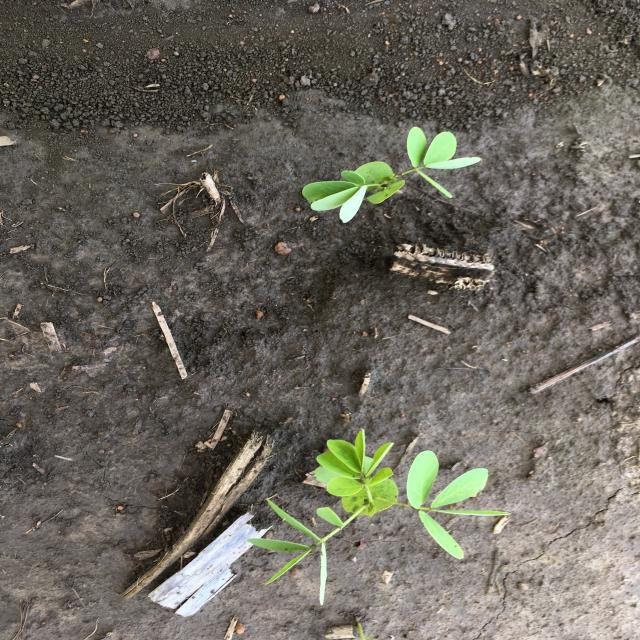Sicklepod: (245, 427, 516, 606), (300, 126, 484, 225)
